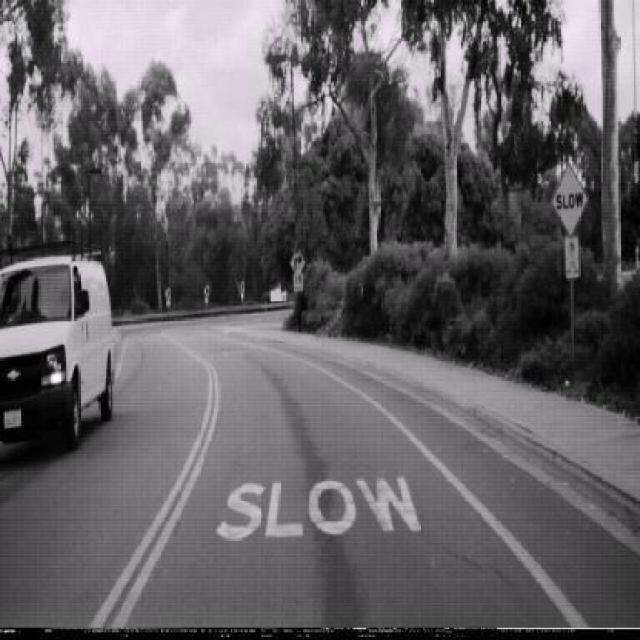slow: (551, 162, 589, 238)
turnRight: (289, 248, 305, 277)
